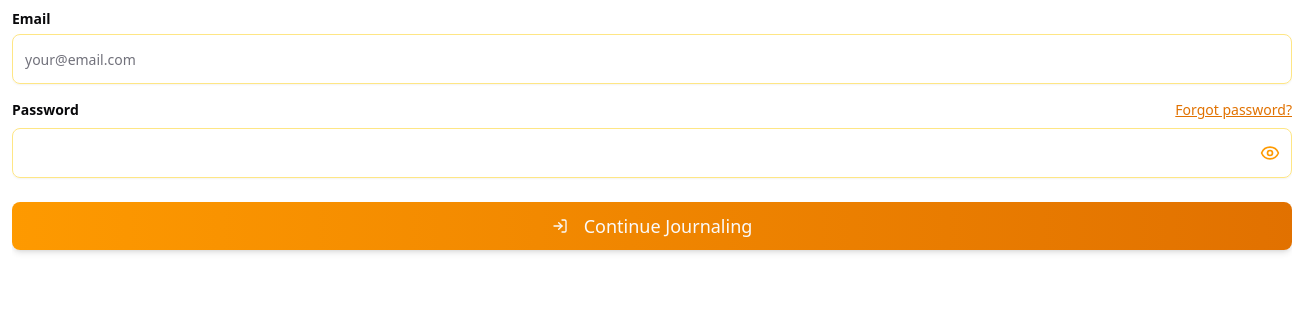
Test: LoginForm › handles login errors
Note: Fill out form
Type "wrong@example.com" into the field labelled "Email".
click(652, 59); type("wrong@example.com")  # box left=12, top=34, right=1292, bottom=84
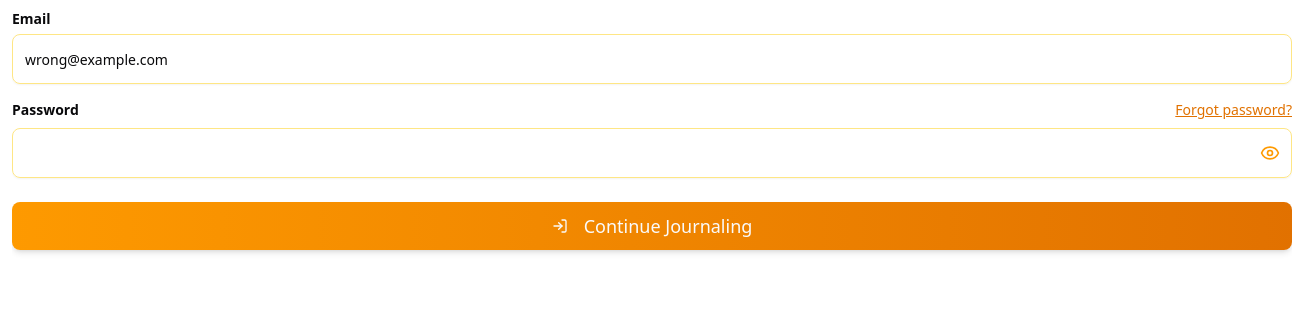
Type "wrongpassword" into the password field labelled "Password".
click(652, 153); type("wrongpassword")  # box left=12, top=128, right=1292, bottom=178
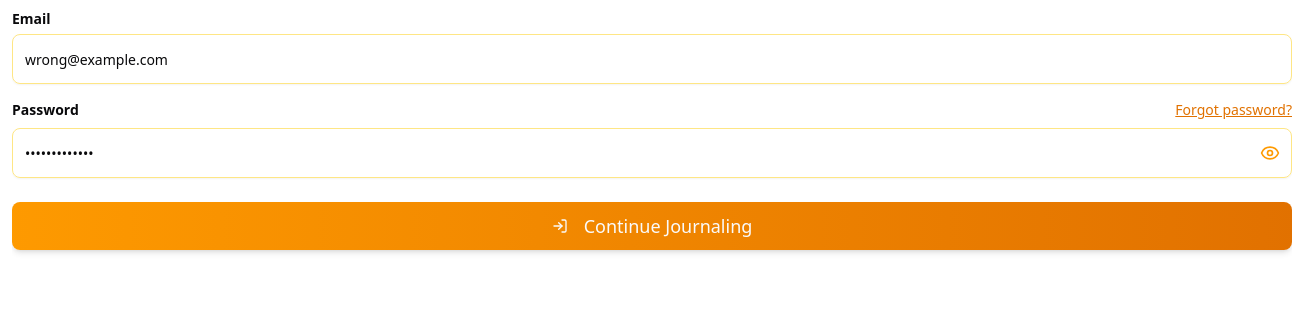
Click the button "Continue Journaling".
click(652, 226)  # box left=12, top=202, right=1292, bottom=250
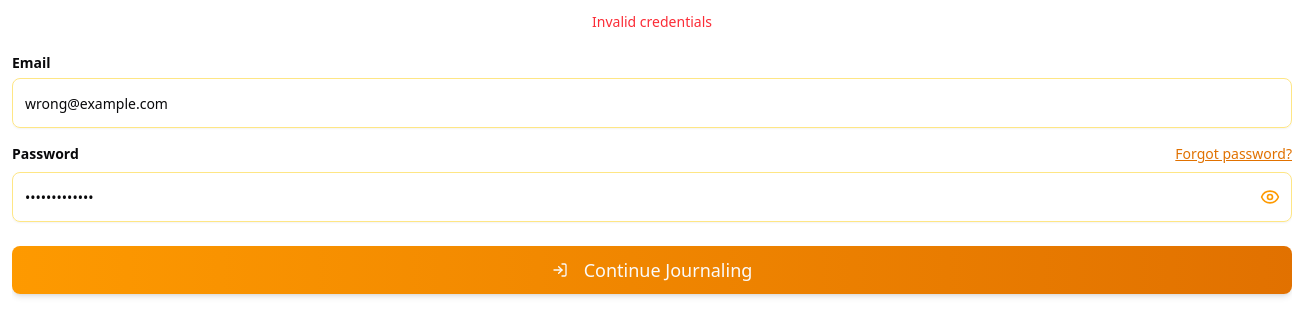
Expected: the text "Invalid credentials" is shown, left=592, top=12, right=712, bottom=31
